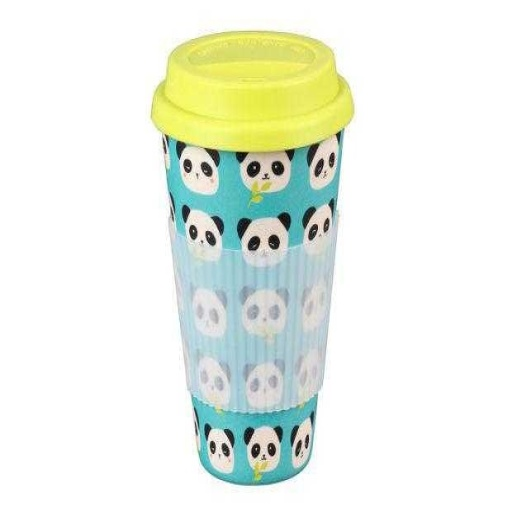cup: (149, 30, 355, 487)
